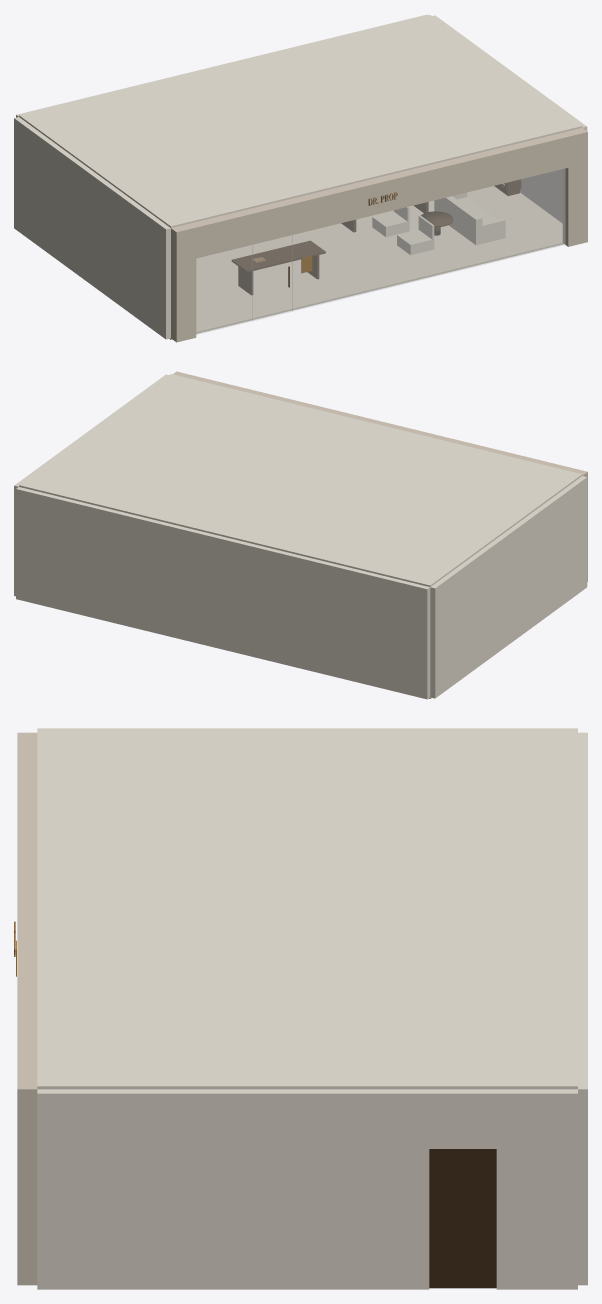
File: store.glb
3 views of the same model, one above another, from view 1: azimuth 30°, elevation 25°; view 2: azimuth 150°, elevation 25°; view 3: azimuth 270°, elevation 25° (orthographic). The views are drawn at different scales.
Parts seen in each view (by area): view 1: ceiling, window-right, floor, wall-left, fascia, window-left, entrance-door, pier-left, pier-right, wall-right-front, reception-top, lounge-sofa-base (+5 smaller); view 2: ceiling, wall-back, wall-left, fascia; view 3: ceiling, wall-right-front, wall-right-back, private-door, fascia, wall-back, pier-right, wall-right-lintel, wall-left.
Part boxes in pixels (box(x1,y1,x2,y2)): ceiling: box(19, 15, 582, 227); window-right: box(292, 169, 565, 311); floor: box(169, 186, 563, 339); wall-left: box(14, 117, 170, 339); fascia: box(171, 129, 581, 262); window-left: box(196, 245, 252, 334); entrance-door: box(252, 235, 292, 320); pier-left: box(171, 223, 196, 342); pier-right: box(562, 128, 587, 246); wall-right-front: box(474, 46, 587, 223); reception-top: box(231, 240, 325, 272); lounge-sofa-base: box(434, 197, 505, 245); ceiling: box(19, 374, 582, 586); wall-back: box(16, 487, 430, 699); wall-left: box(430, 476, 587, 698); fascia: box(175, 374, 567, 469); ceiling: box(37, 729, 577, 1089); wall-right-front: box(37, 1089, 429, 1289); wall-right-back: box(496, 1089, 577, 1289); private-door: box(429, 1149, 496, 1288); fascia: box(17, 735, 37, 1144); wall-back: box(578, 732, 587, 1285); pier-right: box(17, 1072, 37, 1285); wall-right-lintel: box(429, 1089, 496, 1148); wall-left: box(37, 728, 577, 729).
Size of the model in its own units: 12.8 by 3.3 by 8.5.
